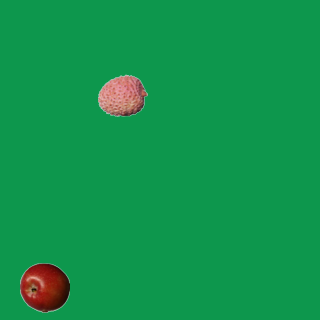Apple Braeburn: (19, 262, 69, 312)
Lychee: (97, 70, 147, 120)
